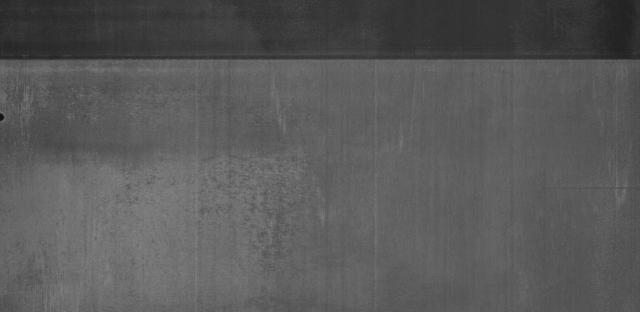punching_hole: (0, 106, 12, 128)
welding_line: (2, 46, 640, 69)
